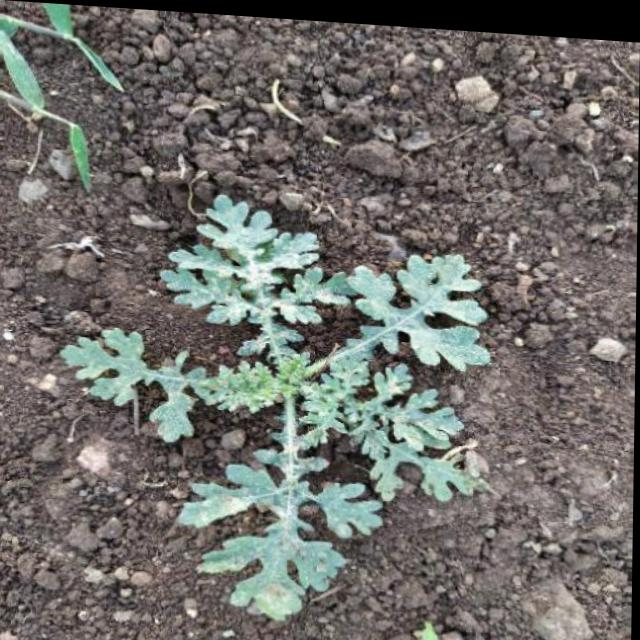weed: (52, 158, 508, 624)
